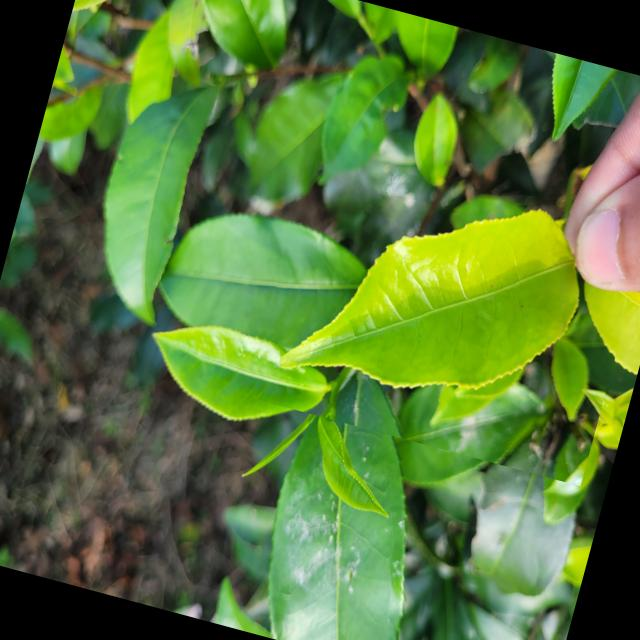Category B 2-4 days: (240, 128, 640, 485)
